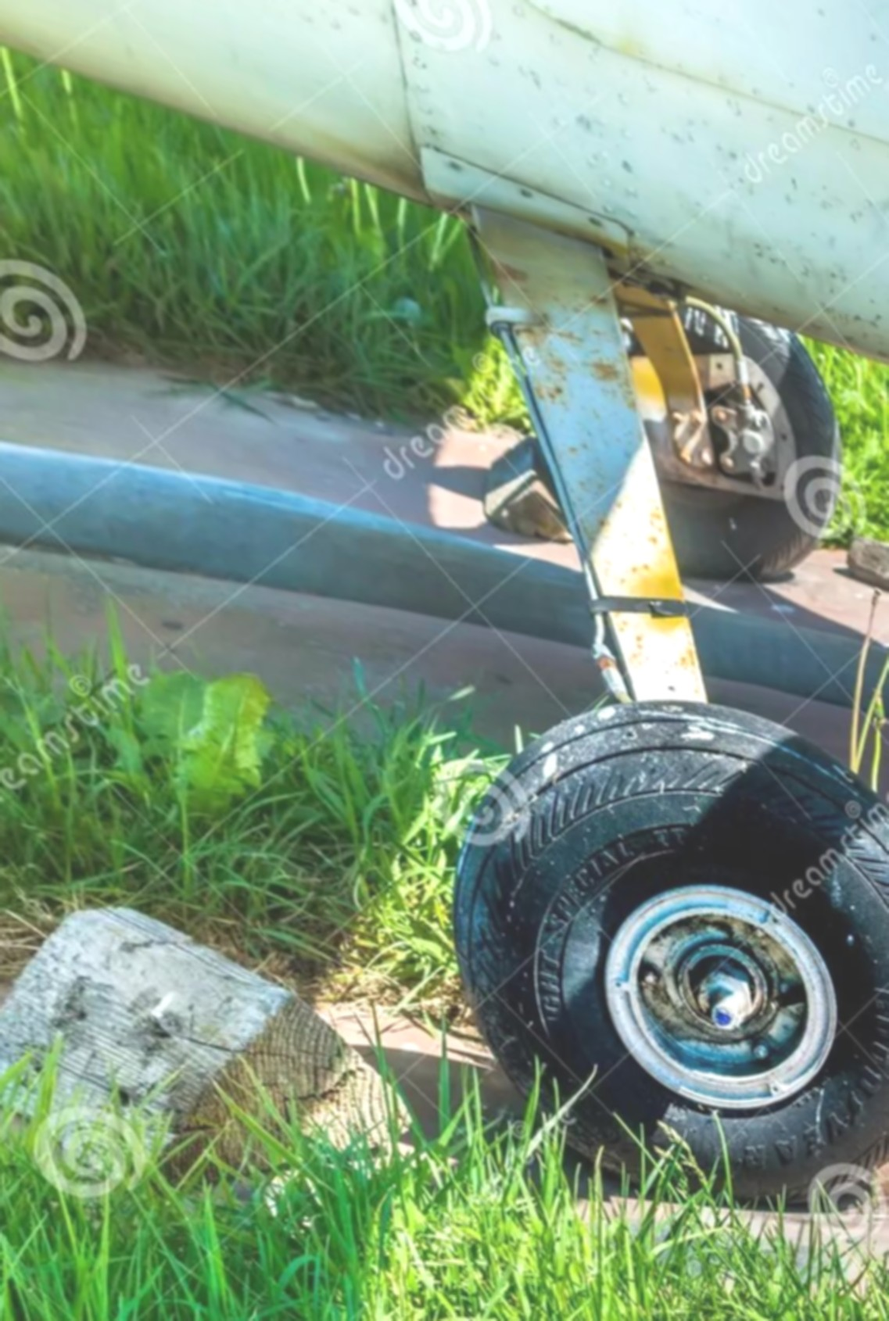chock: (0, 852, 419, 1210), (474, 402, 576, 557)
wheel: (435, 658, 889, 1208), (644, 284, 841, 598)
